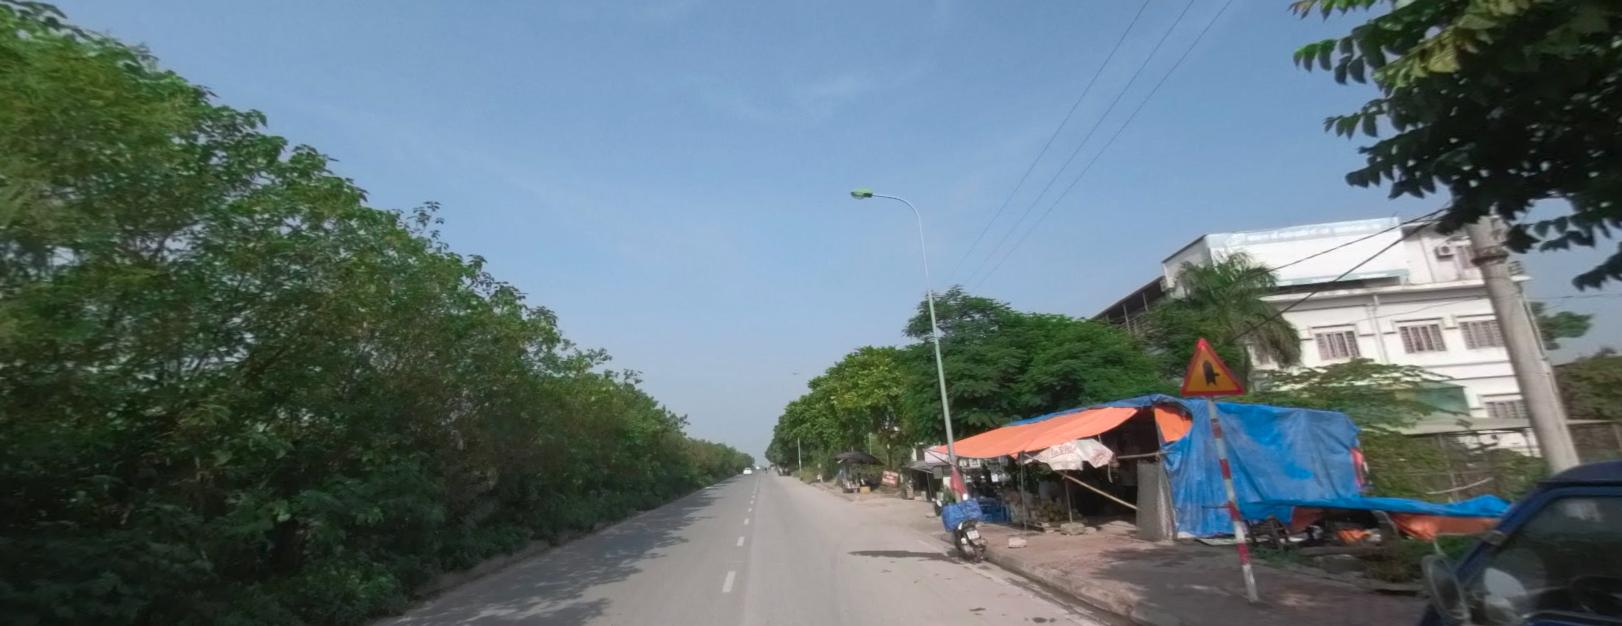Nguy hiem: (1178, 336, 1244, 395)
